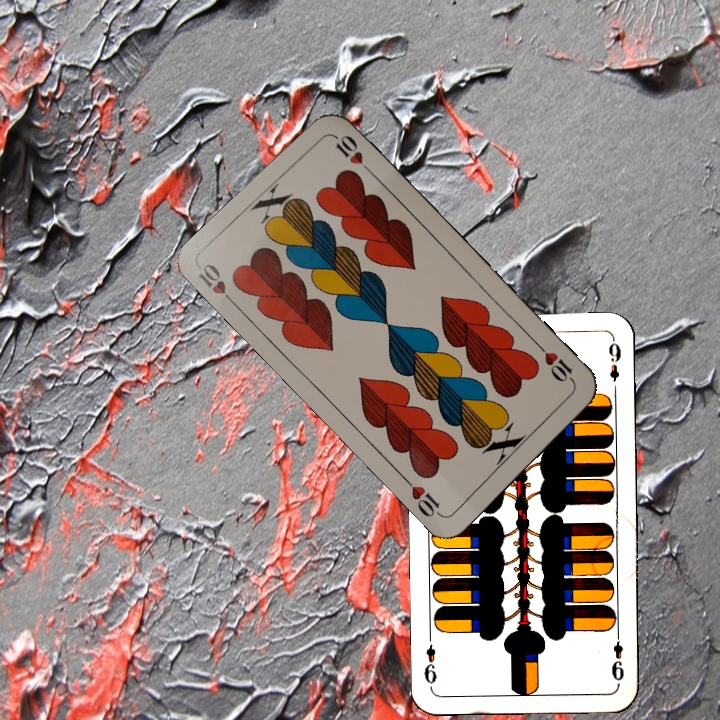E9: (607, 627, 627, 683)
H10: (193, 259, 241, 310), (533, 340, 579, 387)
